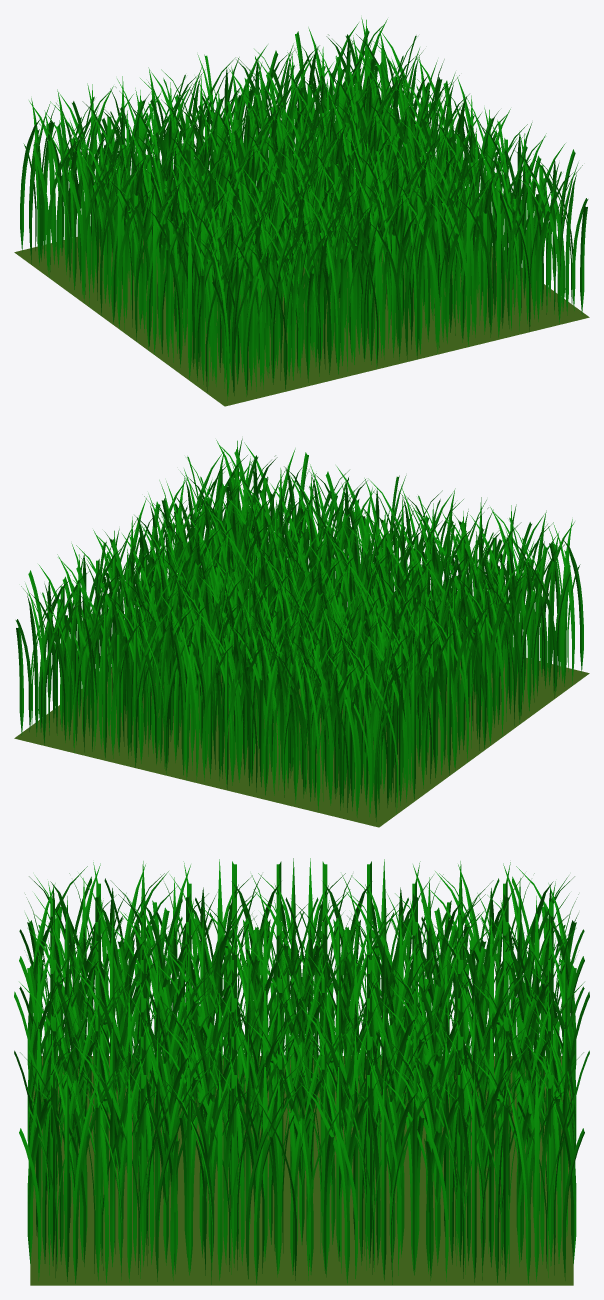
The picture shows the model from 3 angles, top to bottom: view 1: azimuth 30°, elevation 25°; view 2: azimuth 150°, elevation 25°; view 3: azimuth 270°, elevation 25°; orthographic projection. The views are drawn at different scales.
Visible parts, largest first — view 1: _1__Full_Grass_Square, Grass_Blade_2 (×12), Grass_Blade (×5), Grass_Blade_3 (×5), Grass_Blade_1; view 2: _1__Full_Grass_Square, Grass_Blade_2 (×12), Grass_Blade (×5), Grass_Blade_3 (×5), Grass_Blade_1; view 3: _1__Full_Grass_Square, Grass_Blade_2 (×22), Grass_Blade (×16), Grass_Blade_1 (×12), Grass_Blade_3 (×8).
Part boxes in pixels (left/top/right/bottom): _1__Full_Grass_Square: left=14, top=169, right=589, bottom=406; Grass_Blade_2 (×12): left=111, top=165, right=576, bottom=380; Grass_Blade (×5): left=20, top=117, right=500, bottom=378; Grass_Blade_3 (×5): left=56, top=123, right=430, bottom=384; Grass_Blade_1: left=244, top=276, right=259, bottom=396; _1__Full_Grass_Square: left=14, top=590, right=589, bottom=827; Grass_Blade_2 (×12): left=27, top=586, right=492, bottom=801; Grass_Blade (×5): left=103, top=538, right=583, bottom=799; Grass_Blade_3 (×5): left=173, top=544, right=547, bottom=805; Grass_Blade_1: left=344, top=697, right=359, bottom=817; _1__Full_Grass_Square: left=30, top=1056, right=573, bottom=1285; Grass_Blade_2 (×22): left=42, top=1053, right=561, bottom=1283; Grass_Blade (×16): left=27, top=1051, right=576, bottom=1283; Grass_Blade_1 (×12): left=19, top=1099, right=584, bottom=1281; Grass_Blade_3 (×8): left=50, top=1071, right=553, bottom=1280.
Bounding box in the file's own units: 12.73 × 12.73 × 4.73.
